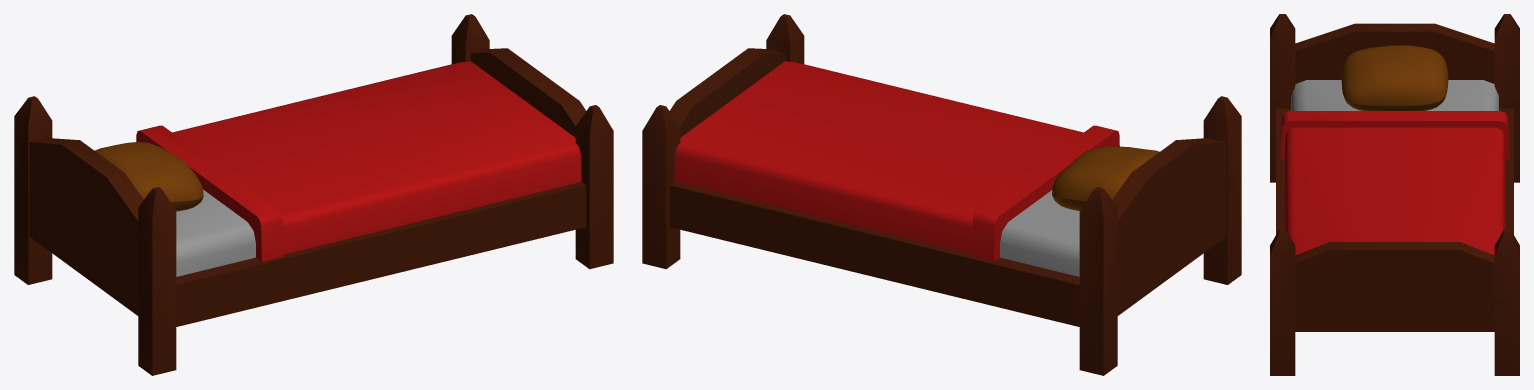
File: bed.obj
3 renders of one model, left to right at view 1: azimuth 30°, elevation 25°; view 2: azimuth 150°, elevation 25°; view 3: azimuth 270°, elevation 25°, orthographic. The views are drawn at different scales.
Size of the model in its own units: 0.4317 by 0.16 by 0.2237.
